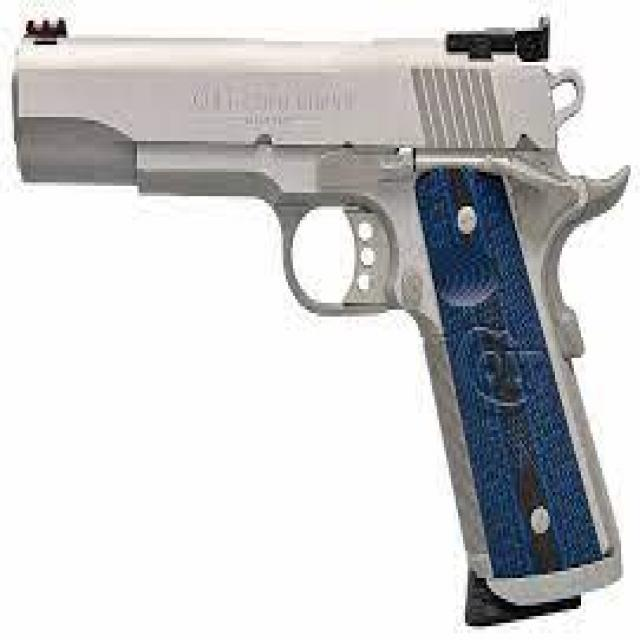semi automatic: (6, 8, 634, 624)
